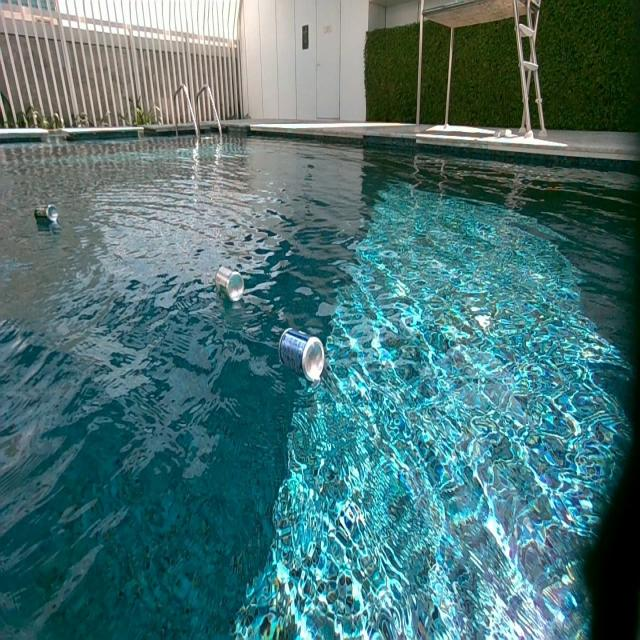Cans: (280, 328, 327, 383), (218, 268, 246, 304), (34, 206, 57, 226)
